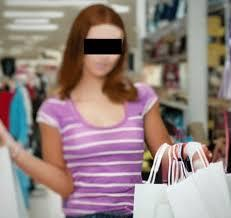shoplifting: (86, 101, 231, 218)
